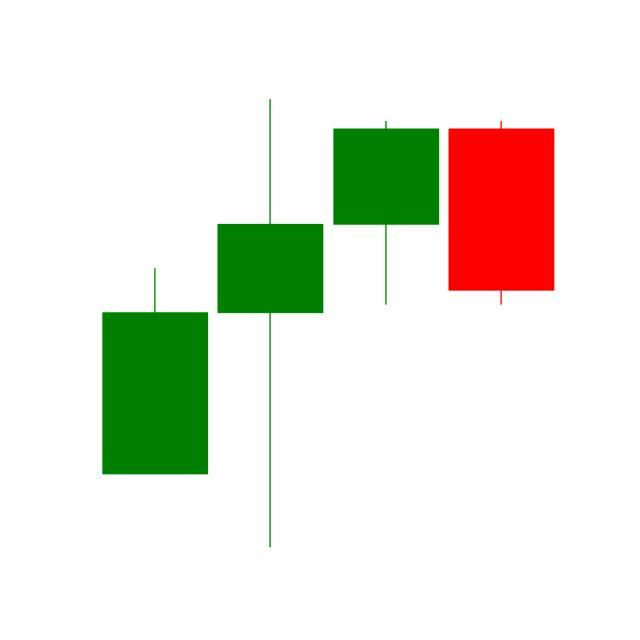Marubozu: (444, 120, 560, 308)
